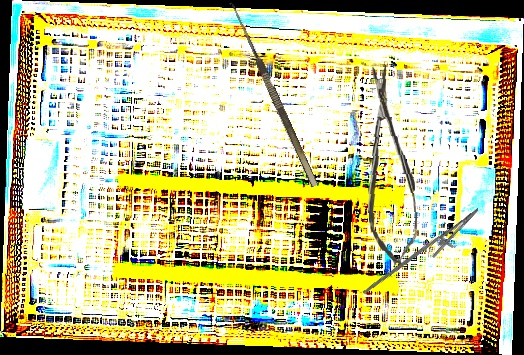Hook Surgical: (219, 0, 319, 192)
Micro Scissor: (360, 63, 420, 267)
Needle Holder: (362, 195, 487, 315)
